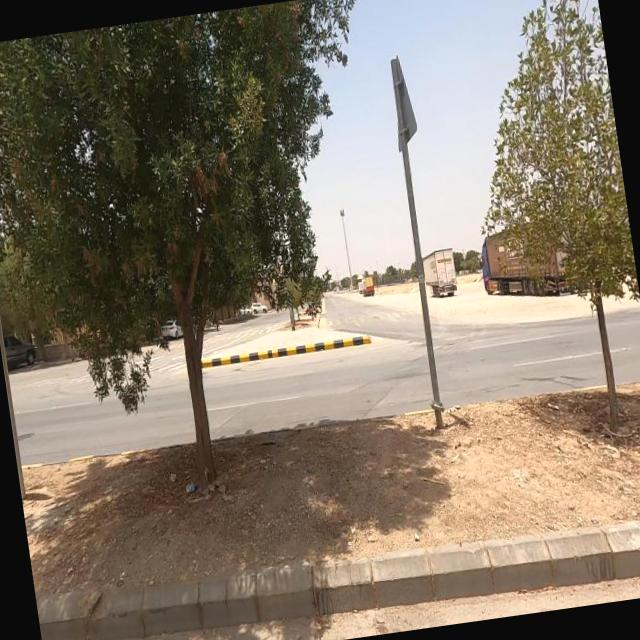debris: (142, 441, 246, 548)
